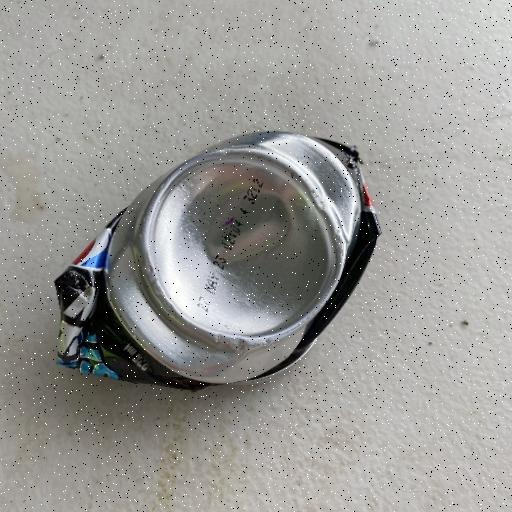Metal: (51, 127, 383, 393)
